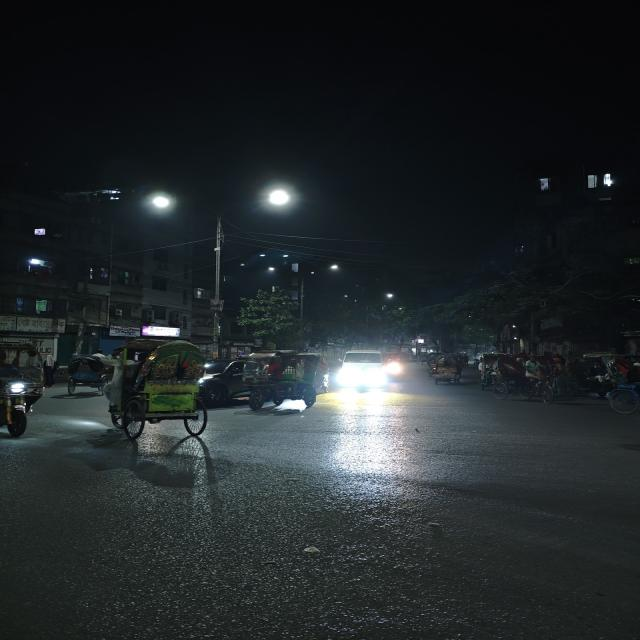car: (333, 347, 395, 393)
rickshaw: (113, 335, 215, 443), (243, 353, 334, 415), (0, 342, 52, 446), (488, 352, 554, 402), (598, 351, 640, 418), (61, 350, 116, 396), (424, 352, 470, 388)
